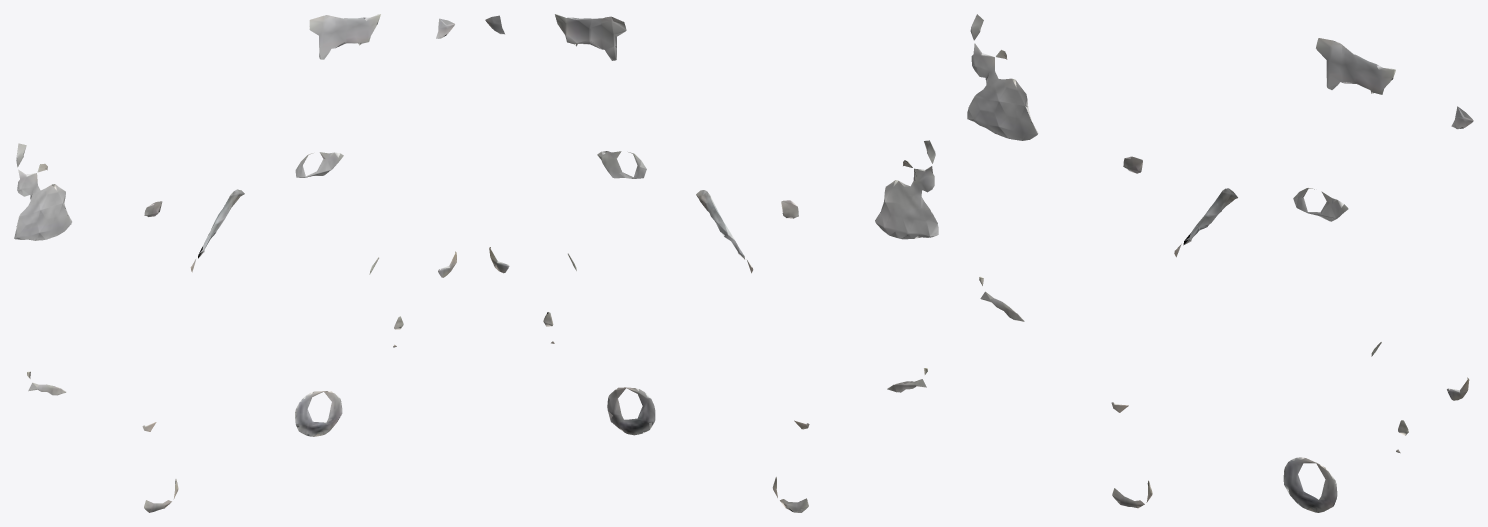
The model's file is 14_55_49_20_hasselblad-camera.glb.
3 views of the same model, side by side, from view 1: azimuth 30°, elevation 25°; view 2: azimuth 150°, elevation 25°; view 3: azimuth 330°, elevation 25° (orthographic). The views are drawn at different scales.
Parts seen in each view (by area): view 1: world; view 2: world; view 3: world.
Boxes of the visible parts, x1,y1,x2,y2 form: world: (14,14,456,512); world: (485,14,938,512); world: (967,14,1473,512).
Bounding box in the file's own units: 0.8418 × 0.8149 × 0.0285.
1 material, 1 textured.
